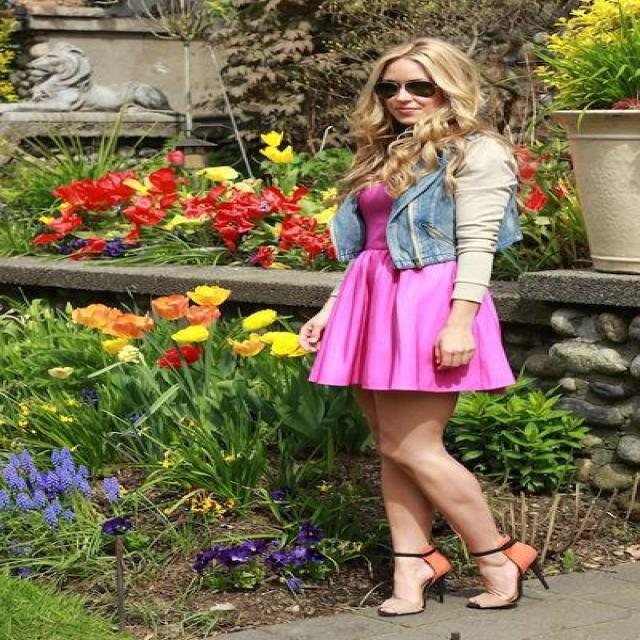dress: (299, 166, 517, 392)
jacket: (315, 115, 517, 294)
shoe: (379, 542, 544, 612)
sunglass: (371, 63, 450, 109)
